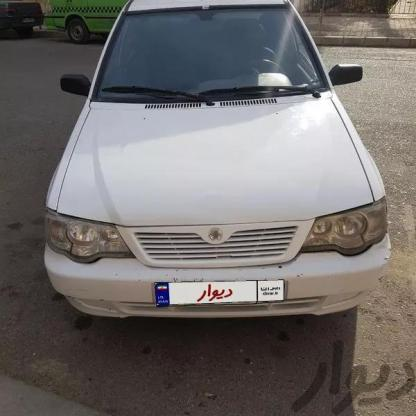Car: (28, 0, 396, 322)
